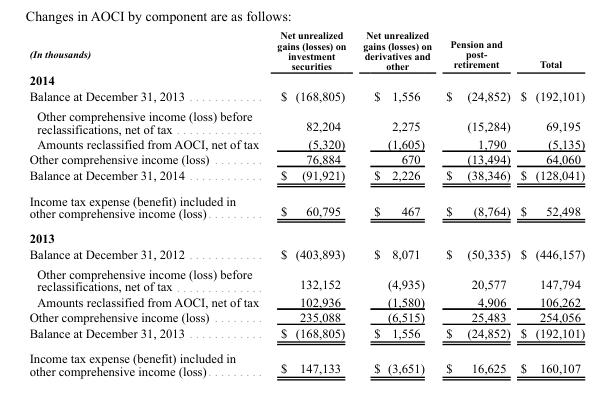table: (28, 29, 584, 377)
table column: (28, 29, 267, 377), (267, 29, 353, 377), (353, 29, 438, 377), (438, 29, 514, 377), (514, 29, 584, 377)
table column header: (28, 29, 584, 72)
table projected row header: (28, 225, 584, 245), (28, 72, 584, 87)
table row: (28, 29, 584, 72), (28, 187, 584, 225), (28, 345, 584, 377), (28, 105, 584, 135), (28, 263, 584, 293), (28, 166, 584, 187), (28, 324, 584, 345), (28, 225, 584, 245), (28, 87, 584, 105), (28, 245, 584, 263), (28, 135, 584, 151), (28, 308, 584, 324), (28, 72, 584, 87), (28, 151, 584, 166), (28, 293, 584, 308)
